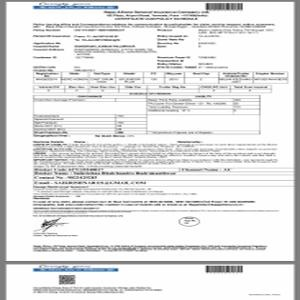table: (32, 92, 263, 138), (33, 70, 290, 86)
text: (29, 22, 274, 68), (32, 139, 279, 169), (103, 10, 212, 21)
